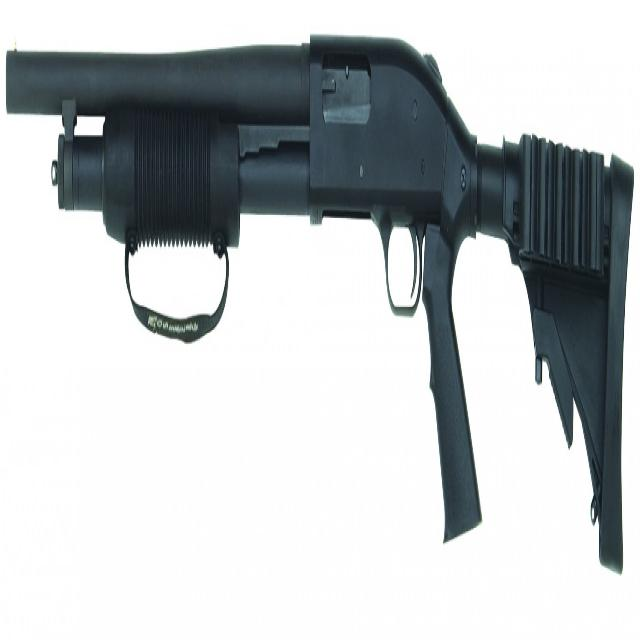ShotGun: (5, 34, 636, 574)
